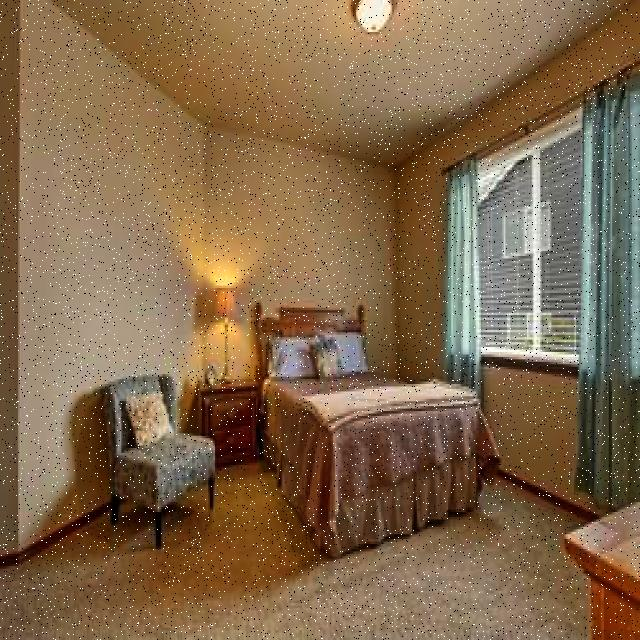bed: (249, 293, 494, 527)
